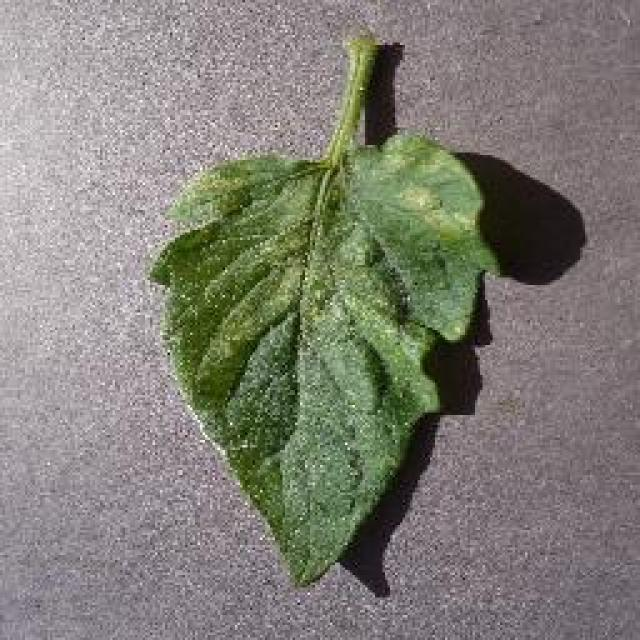Tomato___Spider_mites Two-spotted_spider_mite: (150, 38, 498, 582)
